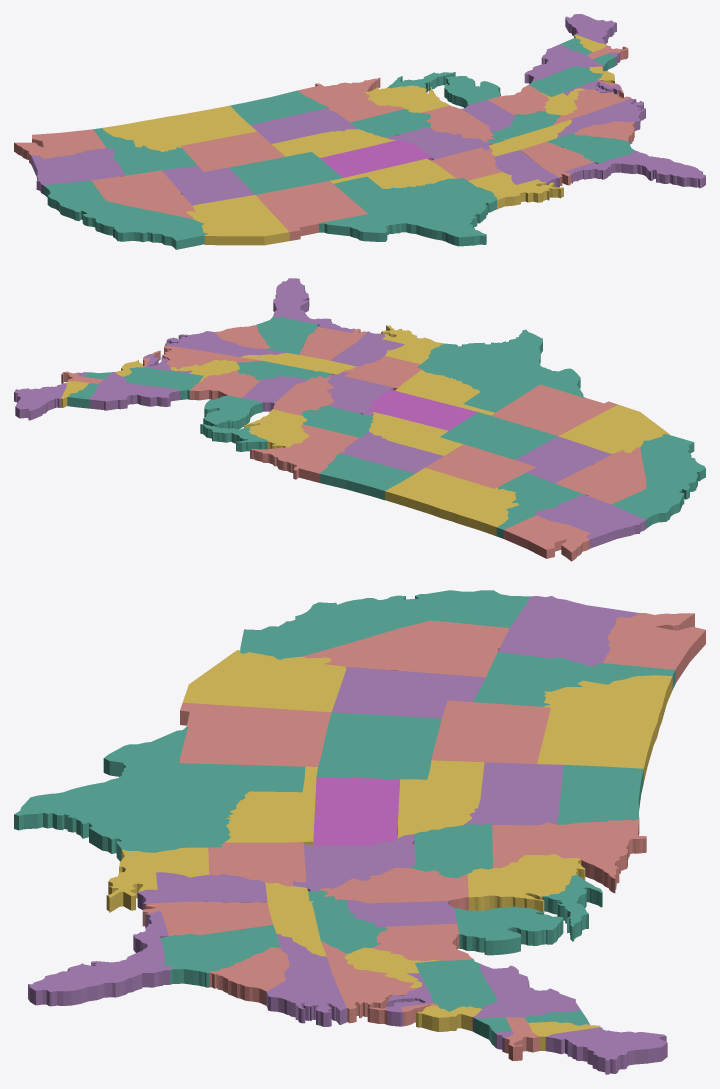
Rendered from america2.fbx.
The picture shows the model from 3 angles, top to bottom: view 1: azimuth 30°, elevation 25°; view 2: azimuth 150°, elevation 25°; view 3: azimuth 270°, elevation 25°; orthographic projection. The views are drawn at different scales.
Visible parts, largest first — view 1: polySurface40, polySurface24, polySurface22, polySurface30, polySurface9, polySurface26, polySurface10, polySurface111, polySurface19, polySurface13, polySurface15, polySurface54 (+30 smaller); view 2: polySurface40, polySurface22, polySurface24, polySurface9, polySurface19, polySurface30, polySurface26, polySurface10, polySurface54, polySurface13, polySurface17, polySurface34 (+30 smaller); view 3: polySurface40, polySurface22, polySurface24, polySurface9, polySurface30, polySurface26, polySurface10, polySurface54, polySurface13, polySurface19, polySurface111, polySurface15 (+33 smaller).
Part boxes in pixels (x1,y1,x2,y2): polySurface40: (319, 176, 497, 246); polySurface24: (43, 180, 207, 249); polySurface22: (102, 105, 256, 152); polySurface30: (186, 195, 289, 245); polySurface9: (255, 181, 368, 240); polySurface26: (91, 170, 195, 218); polySurface10: (229, 152, 342, 194); polySurface111: (564, 151, 705, 188); polySurface19: (31, 148, 125, 194); polySurface13: (180, 131, 285, 171); polySurface15: (162, 165, 254, 205); polySurface54: (297, 77, 404, 122); polySurface40: (417, 329, 585, 412); polySurface22: (385, 468, 518, 536); polySurface24: (612, 434, 705, 528); polySurface9: (491, 384, 617, 435); polySurface19: (534, 494, 646, 548); polySurface30: (558, 404, 669, 454); polySurface26: (555, 447, 646, 504); polySurface10: (440, 412, 557, 459); polySurface54: (250, 424, 358, 482); polySurface13: (425, 444, 536, 488); polySurface17: (503, 515, 590, 561); polySurface34: (320, 453, 414, 500); polySurface40: (14, 726, 305, 861); polySurface22: (537, 675, 672, 782); polySurface24: (240, 590, 530, 659); polySurface9: (179, 702, 331, 766); polySurface30: (182, 650, 346, 712); polySurface26: (302, 620, 509, 677); polySurface10: (316, 712, 441, 779); polySurface54: (492, 819, 646, 893); polySurface13: (431, 700, 550, 763); polySurface19: (498, 596, 639, 666); polySurface111: (28, 911, 173, 1006); polySurface15: (332, 667, 485, 718).
Bounding box in the file's own units: 906 × 13.16 × 563.
